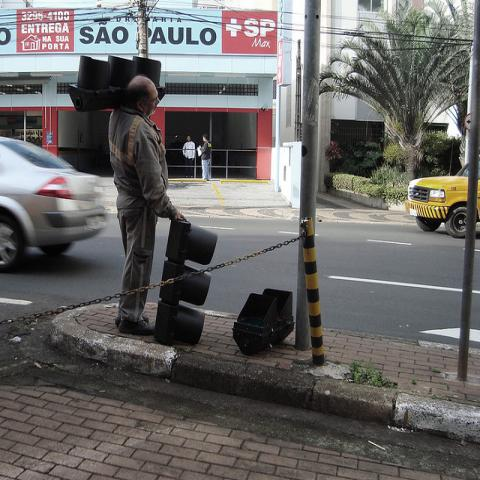car: (0, 138, 109, 274)
truck: (408, 164, 470, 234)
